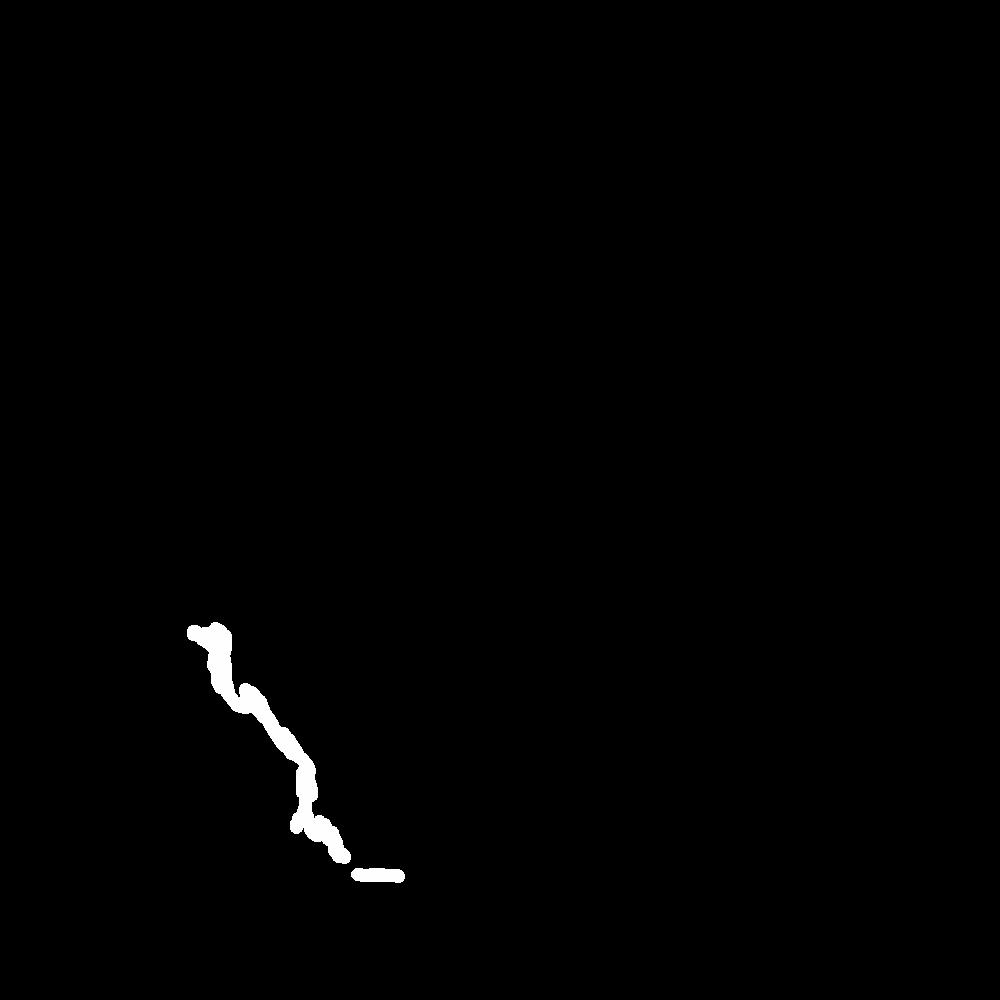illegal: (173, 616, 420, 918)
